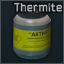Can of thermite: (0, 0, 64, 64)
